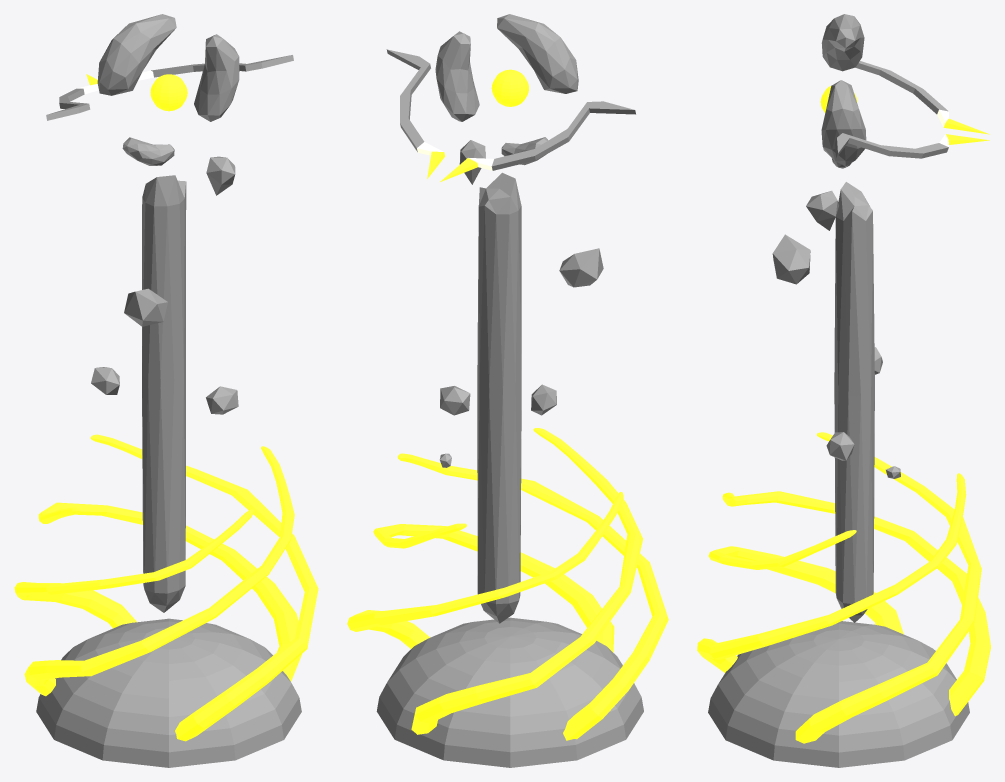
Rendered from lvl3S.fbx.
3 views of the same model, side by side, from view 1: azimuth 30°, elevation 25°; view 2: azimuth 150°, elevation 25°; view 3: azimuth 270°, elevation 25° (orthographic). The views are drawn at different scales.
Parts seen in each view (by area): view 1: sniper3; view 2: sniper3; view 3: sniper3.
Boxes of the visible parts, bbox=[...] form: sniper3: bbox=[14, 14, 318, 767]; sniper3: bbox=[347, 14, 668, 767]; sniper3: bbox=[697, 14, 990, 767].
Size of the model in its own units: 325 by 829 by 323.
